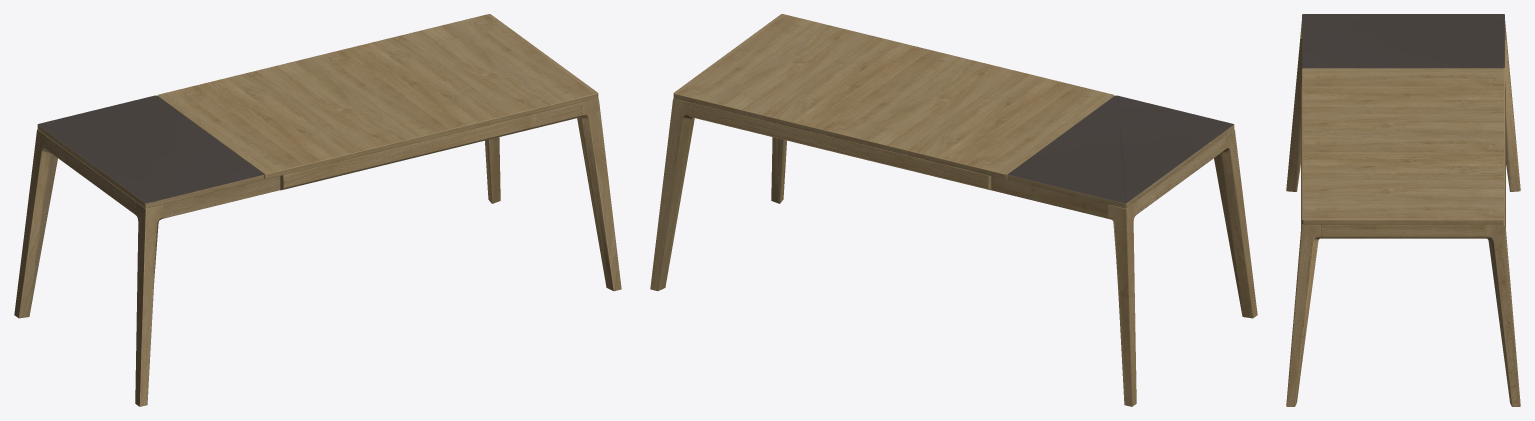
The model's file is Table0.obj.
3 views of the same model, side by side, from view 1: azimuth 30°, elevation 25°; view 2: azimuth 150°, elevation 25°; view 3: azimuth 270°, elevation 25° (orthographic). The views are drawn at different scales.
Parts seen in each view (by area): view 1: solid_001, solid_002; view 2: solid_001, solid_002; view 3: solid_001, solid_002.
Boxes of the visible parts, x1,y1,x2,y2 form: solid_001: (14,14,621,406); solid_002: (38,95,263,203); solid_001: (650,14,1257,406); solid_002: (1007,95,1233,203); solid_001: (1286,21,1520,406); solid_002: (1302,14,1504,225).
Size of the model in its own units: 2 by 0.7704 by 0.9021.
Materials: 1 (1 with a texture image).
